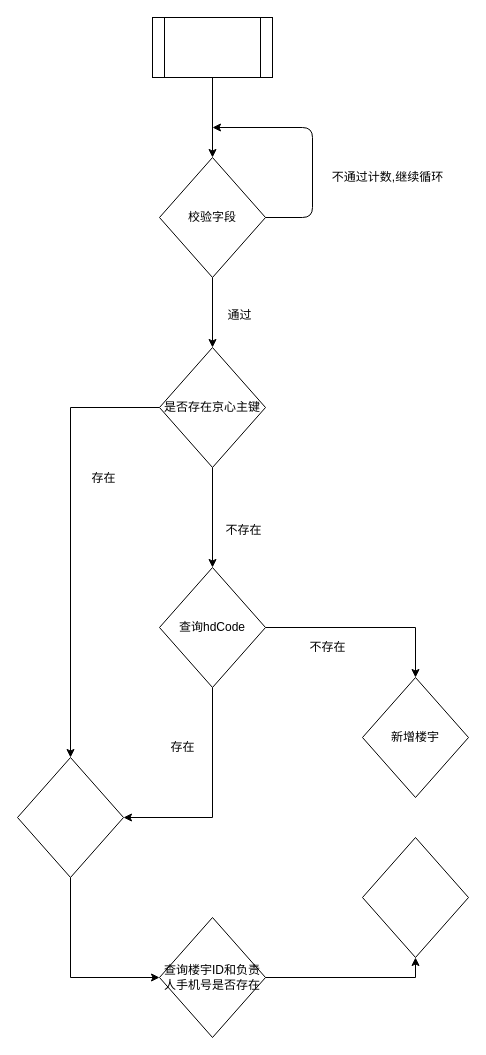
The diagram is 486 pixels wide and 1055 high, and some of its shapes have lost their labels. The box of each missing label's shape, as (x1, y1, x2, y2) in pixels:
huayu Api数据: (152, 16, 272, 78)
新增楼宇负责人: (362, 836, 468, 958)
更新: (16, 756, 124, 878)
